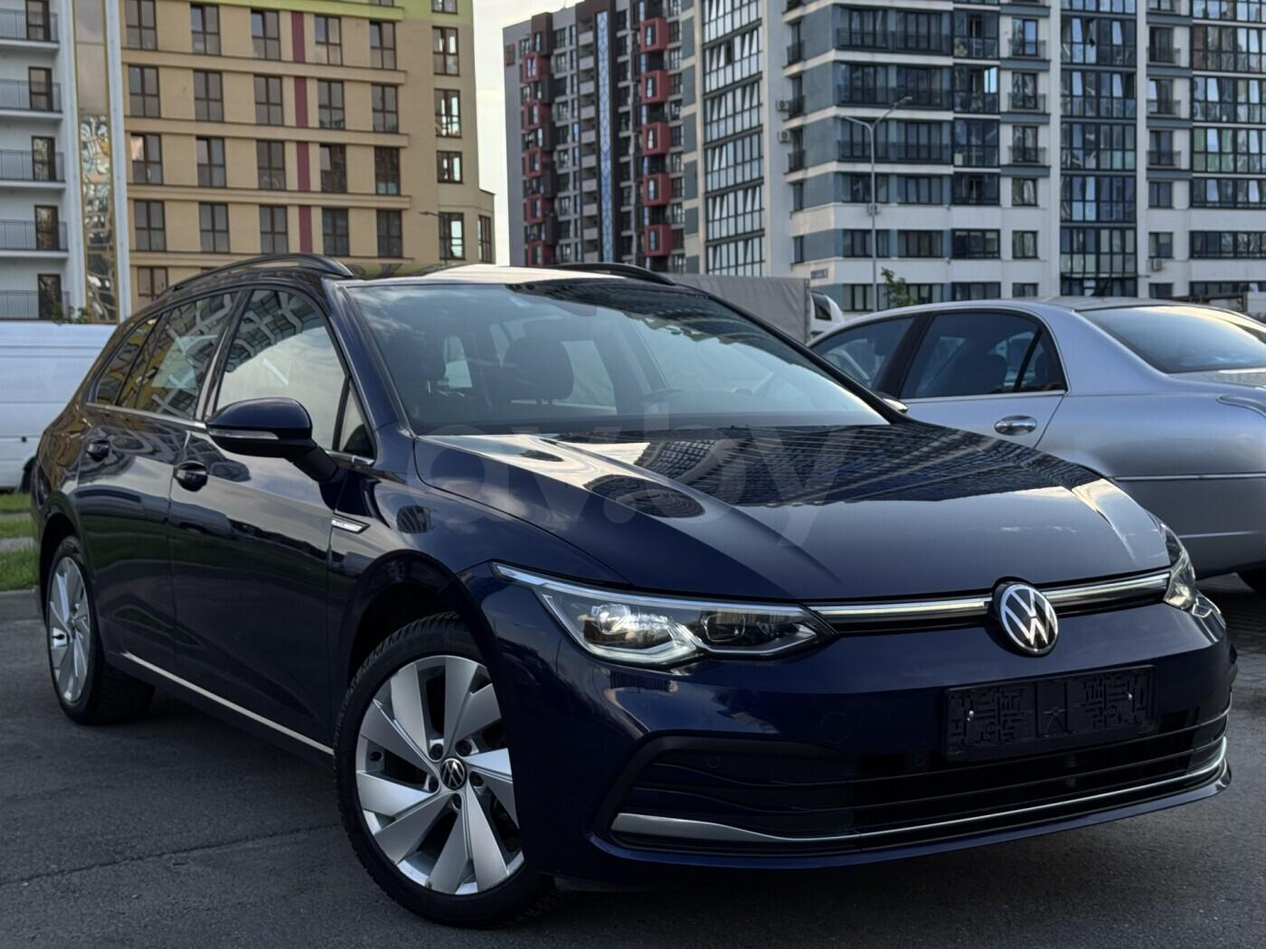Golf_2019: (9, 255, 1238, 912)
